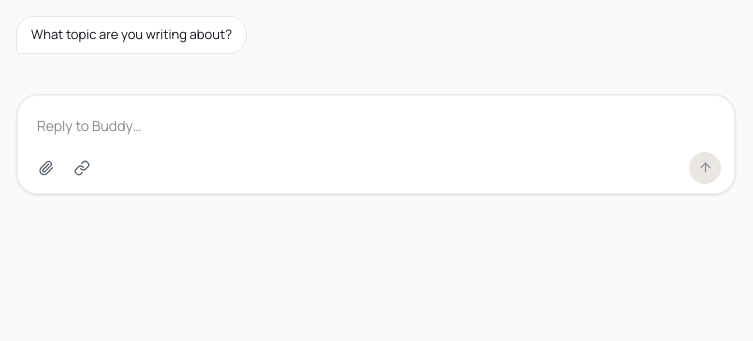
Test: Done button → naming prompt › clicking Done shows naming prompt instead of immediately creating a project
Expected: the text "What topic are you writing about?" is shown, [16,16,247,54]
In the text box: point(376, 125) [31,106,721,144], type "Quantum computing"
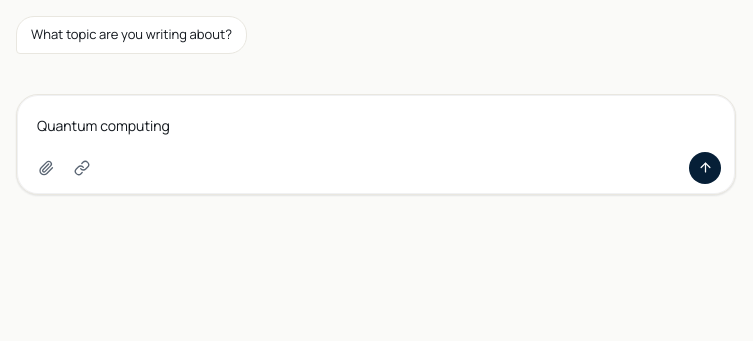
Click the button named "send": point(705, 168) [689,152,721,184]
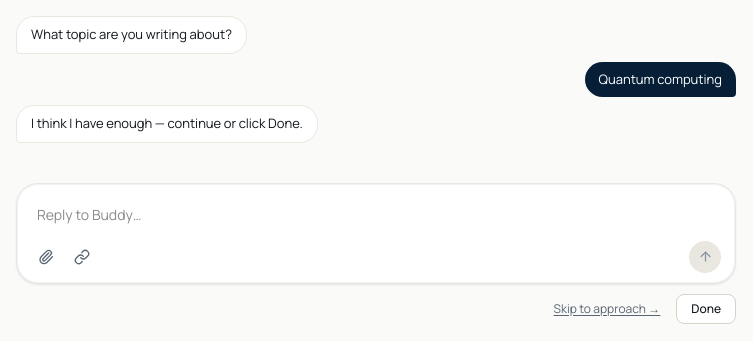
Now the text "I think I have enough — continue or click Done." is shown, box [16,105,318,142]
Click the button "Done": point(706, 308) [676,294,736,324]
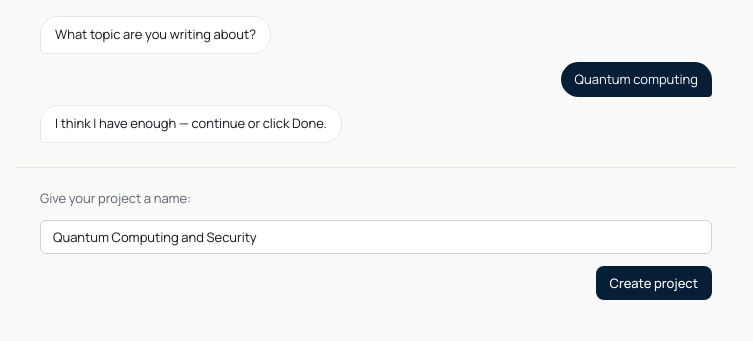
Now the field showing "Quantum Computing and Security" is shown, box [40,220,712,254]
